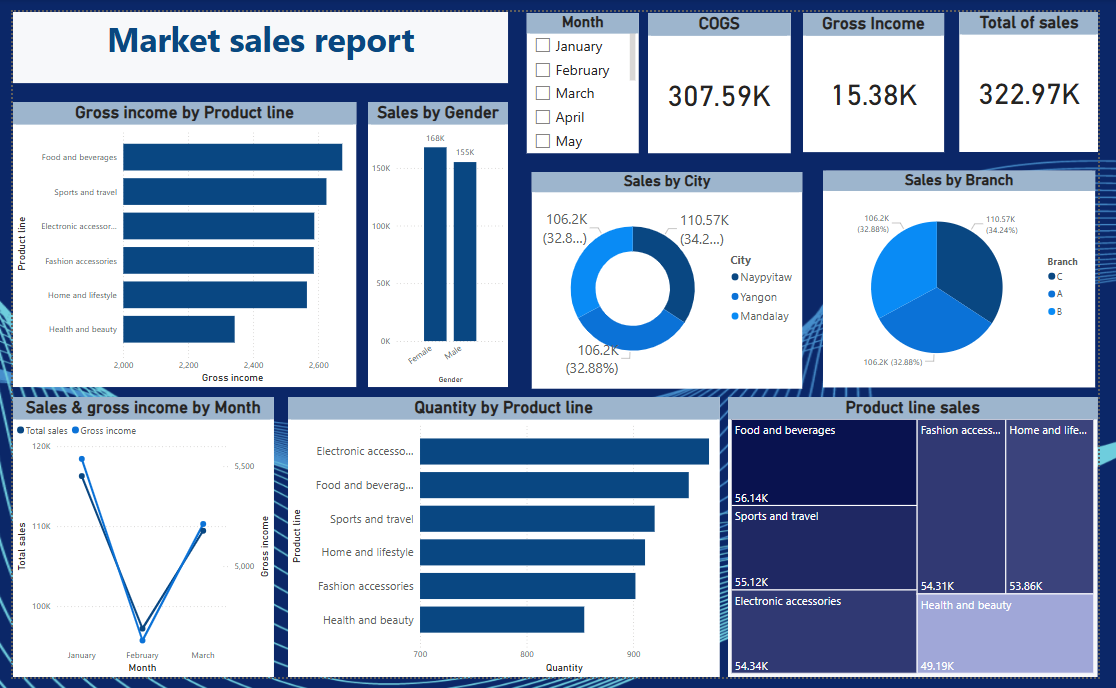

The dashboard page shown, as its layout file describes it:
{"tool":"powerbi","page":{"name":"Dashboard","canvas":[1550,950],"ordinal":1},"visuals":[{"type":"card","title":"Gross Income","fields":{"Values":["Sum(Dataset.gross income)"]},"box":[1128.3,1.9,201.9,198.1],"z":0},{"type":"card","title":"Total of sales","fields":{"Values":["Sum(Dataset.Total)"]},"box":[1350.9,0,200,200],"z":1000},{"type":"card","title":"COGS","fields":{"Values":["Sum(Dataset.cogs)"]},"box":[907.5,1.9,203.8,200],"z":2000},{"type":"columnChart","title":"Sales by Gender","fields":{"Category":["Dataset.Gender"],"Y":["Sum(Dataset.Total)"]},"box":[507.5,128.3,200,407.5],"z":3000},{"type":"treemap","title":"Product line sales","fields":{"Group":["Dataset.Product line"],"Values":["Sum(Dataset.Total)"]},"box":[1022.2,550,527.8,400],"z":4000},{"type":"slicer","title":"Month","fields":{"Values":["Dataset.Date.Variation.Date Hierarchy.Month"]},"box":[734,1.9,160.4,200],"z":5000},{"type":"lineChart","title":"Sales & gross income by Month","fields":{"Category":["Dataset.Date.Variation.Date Hierarchy.Month"],"Y":["Sum(Dataset.Total)"],"Y2":["Sum(Dataset.gross income)"]},"box":[0,550,372.4,400],"z":6000},{"type":"barChart","title":"Gross income by Product line","fields":{"Y":["Sum(Dataset.gross income)"],"Category":["Dataset.Product line"]},"box":[0,128.3,490.6,407.5],"z":7000},{"type":"barChart","fields":{"Category":["Dataset.Product line"],"Y":["Sum(Dataset.Quantity)"]},"box":[392.6,550,616.7,400],"z":8000},{"type":"textbox","box":[0,0,707.5,101.9],"z":9000},{"type":"pieChart","title":"Sales by Branch","fields":{"Category":["Dataset.Branch"],"Y":["Sum(Dataset.Total)"]},"box":[1156.6,226.4,388.7,309.4],"z":10000},{"type":"donutChart","title":"Sales by City","fields":{"Category":["Dataset.City"],"Y":["Sum(Dataset.Total)"]},"box":[741.5,228.3,386.8,309.4],"z":11000}]}

Visuals, with their boxes in screenshot pixels (x1, y1, x2, y2), scaled from the page's 1550x950 canvas onto the 1116x688 screenshot:
"Gross Income" card: x1=812, y1=1, x2=958, y2=145
"Total of sales" card: x1=973, y1=0, x2=1115, y2=145
"COGS" card: x1=653, y1=1, x2=800, y2=146
"Sales by Gender" columnChart: x1=365, y1=93, x2=509, y2=388
"Product line sales" treemap: x1=736, y1=398, x2=1115, y2=687
"Month" slicer: x1=528, y1=1, x2=644, y2=146
"Sales & gross income by Month" lineChart: x1=0, y1=398, x2=268, y2=687
"Gross income by Product line" barChart: x1=0, y1=93, x2=353, y2=388
barChart - Dataset.Product line x Sum(Dataset.Quantity): x1=283, y1=398, x2=727, y2=687
textbox: x1=0, y1=0, x2=509, y2=74
"Sales by Branch" pieChart: x1=833, y1=164, x2=1113, y2=388
"Sales by City" donutChart: x1=534, y1=165, x2=812, y2=389
